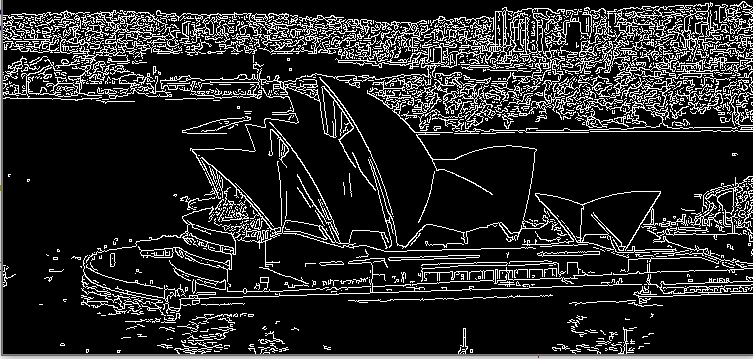opera house: (137, 69, 668, 265)
